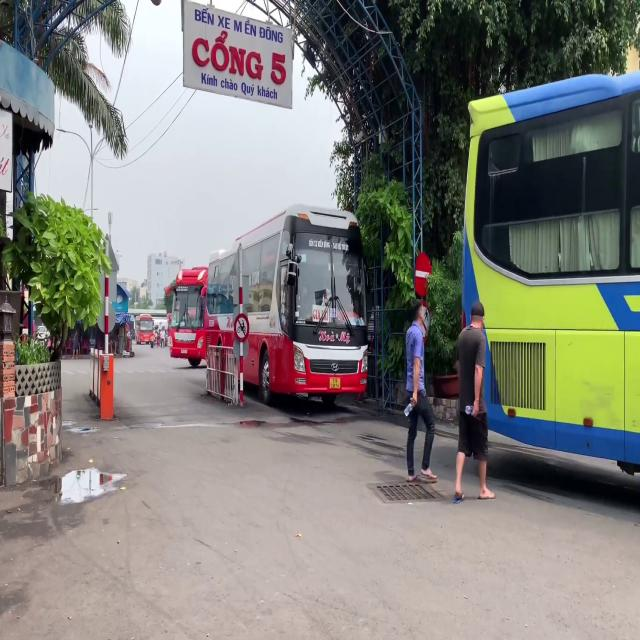bien_vang: (330, 378, 340, 389)
